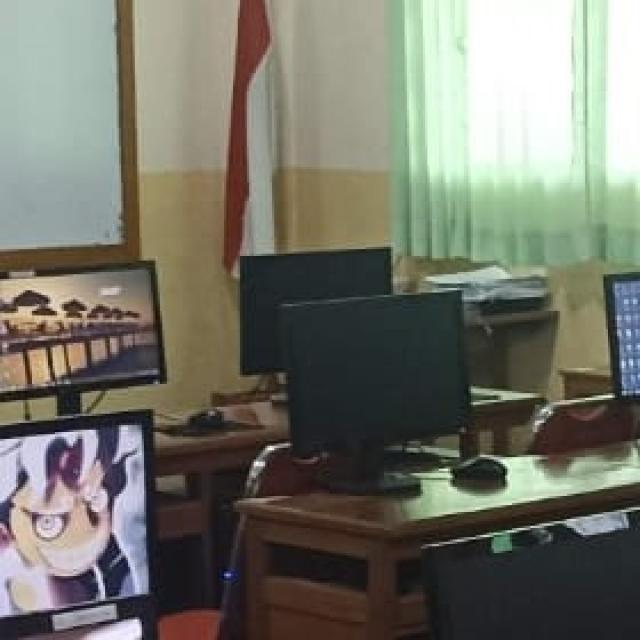offscreen: (280, 291, 469, 452), (240, 248, 390, 374)
onscreen: (0, 413, 155, 639), (0, 264, 161, 401)
